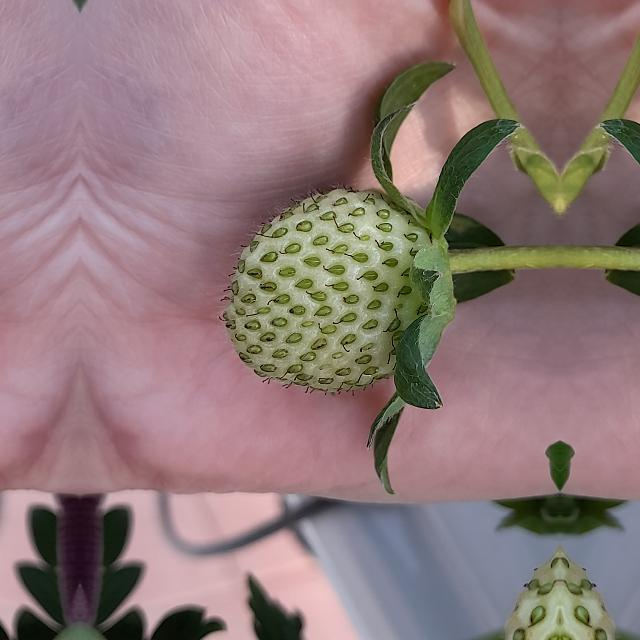Health_25: (217, 182, 436, 396)
